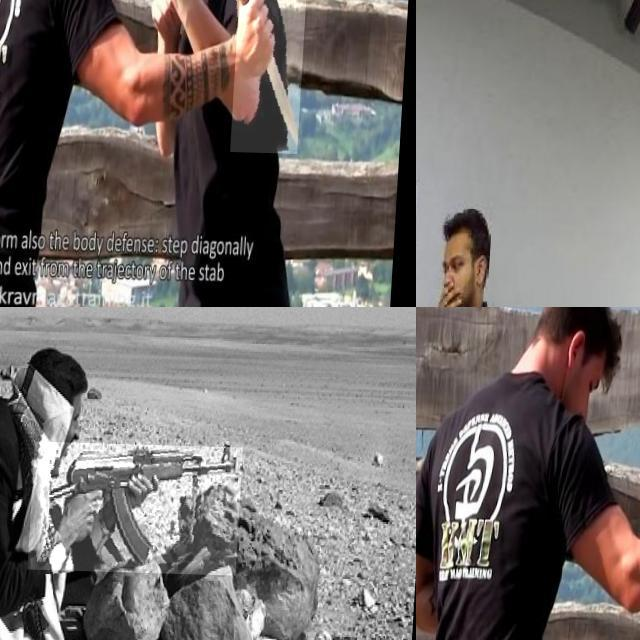-: (235, 0, 311, 150)
gun-knife-thesis - v11 Yolov5 augmented: (32, 440, 246, 573)
